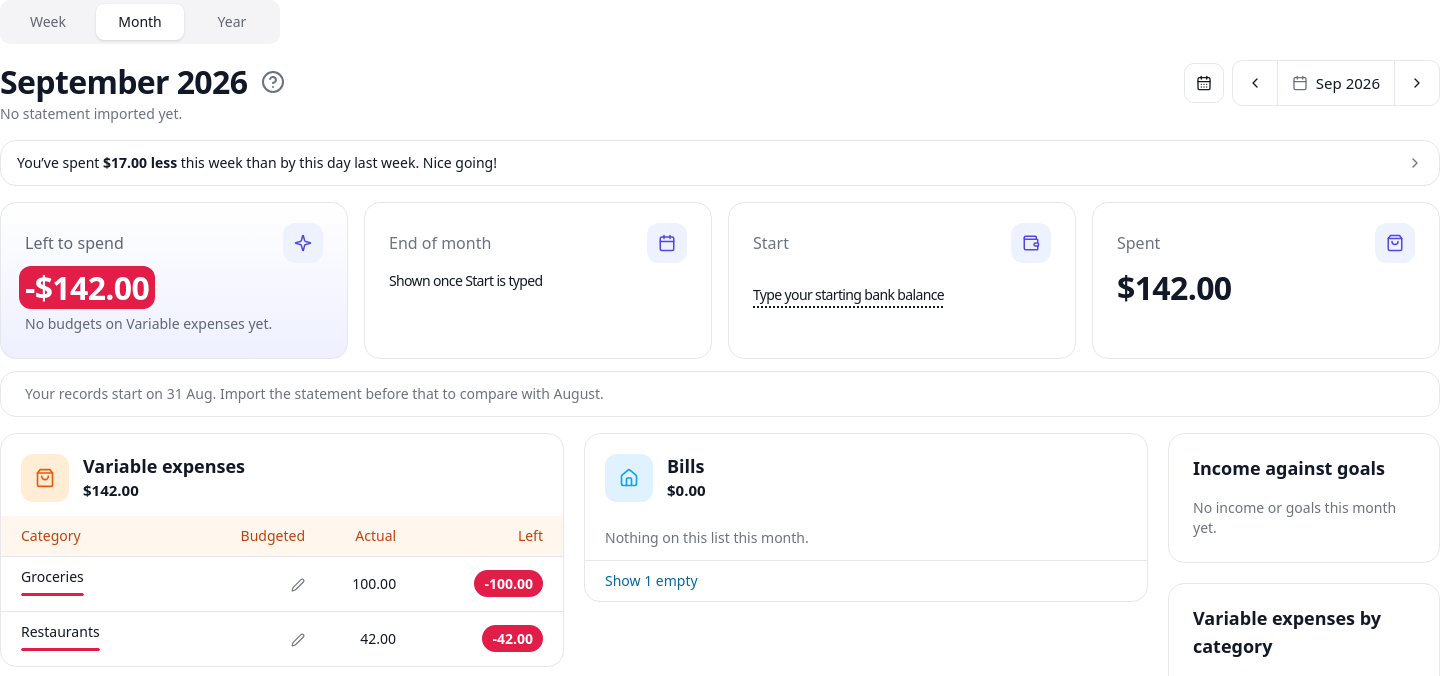
Test: Month row charges › says a charge was added by hand, and nothing of one from a source that is gone
Check: the column heading "Restaurants" is shown, box [1, 611, 182, 666]
Click the button "Restaurants".
click(60, 636)  # box [21, 622, 100, 651]
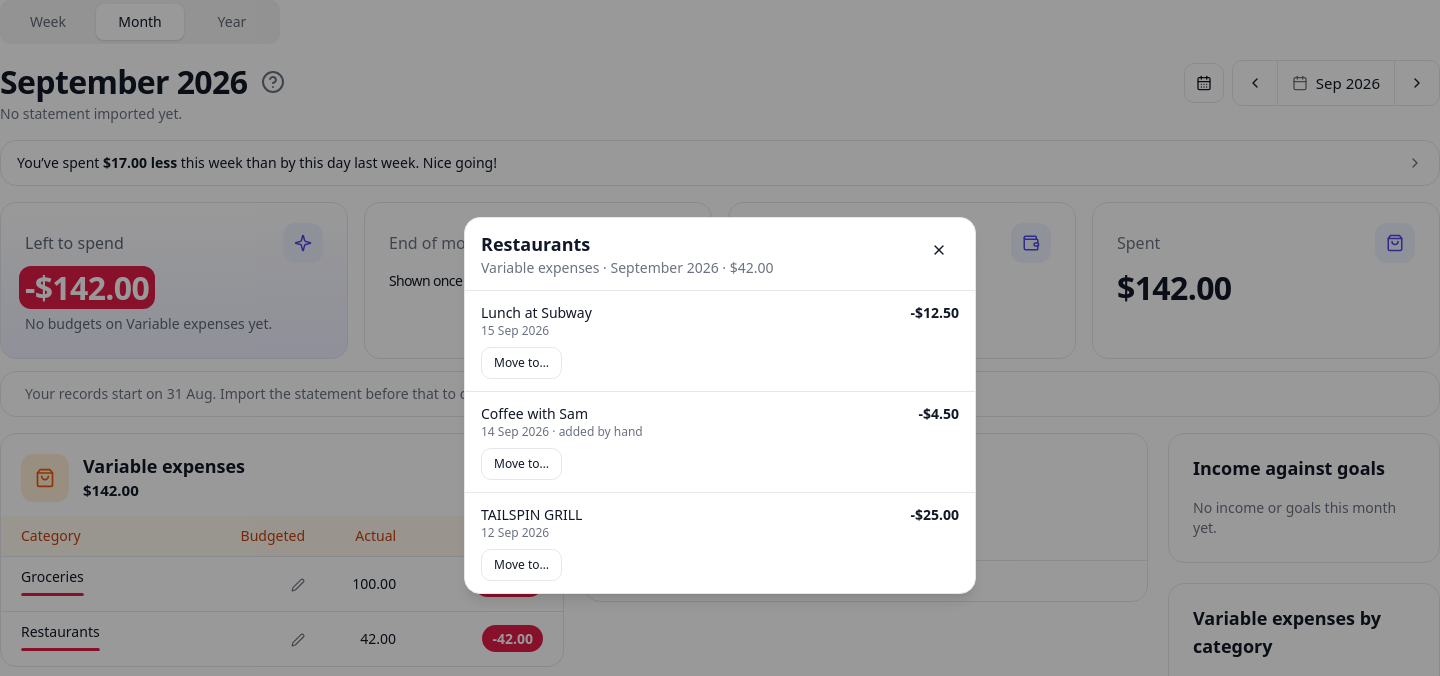
Check: the list items read "Lunch at Subway15 Sep 2026-$12.50Move to…", "Coffee with Sam14 Sep 2026 · added by hand-$4.50Move to…", "TAILSPIN GRILL12 Sep 2026-$25.00Move to…", in this order, box [465, 290, 975, 392]; [465, 392, 975, 492]; [465, 492, 975, 592]
